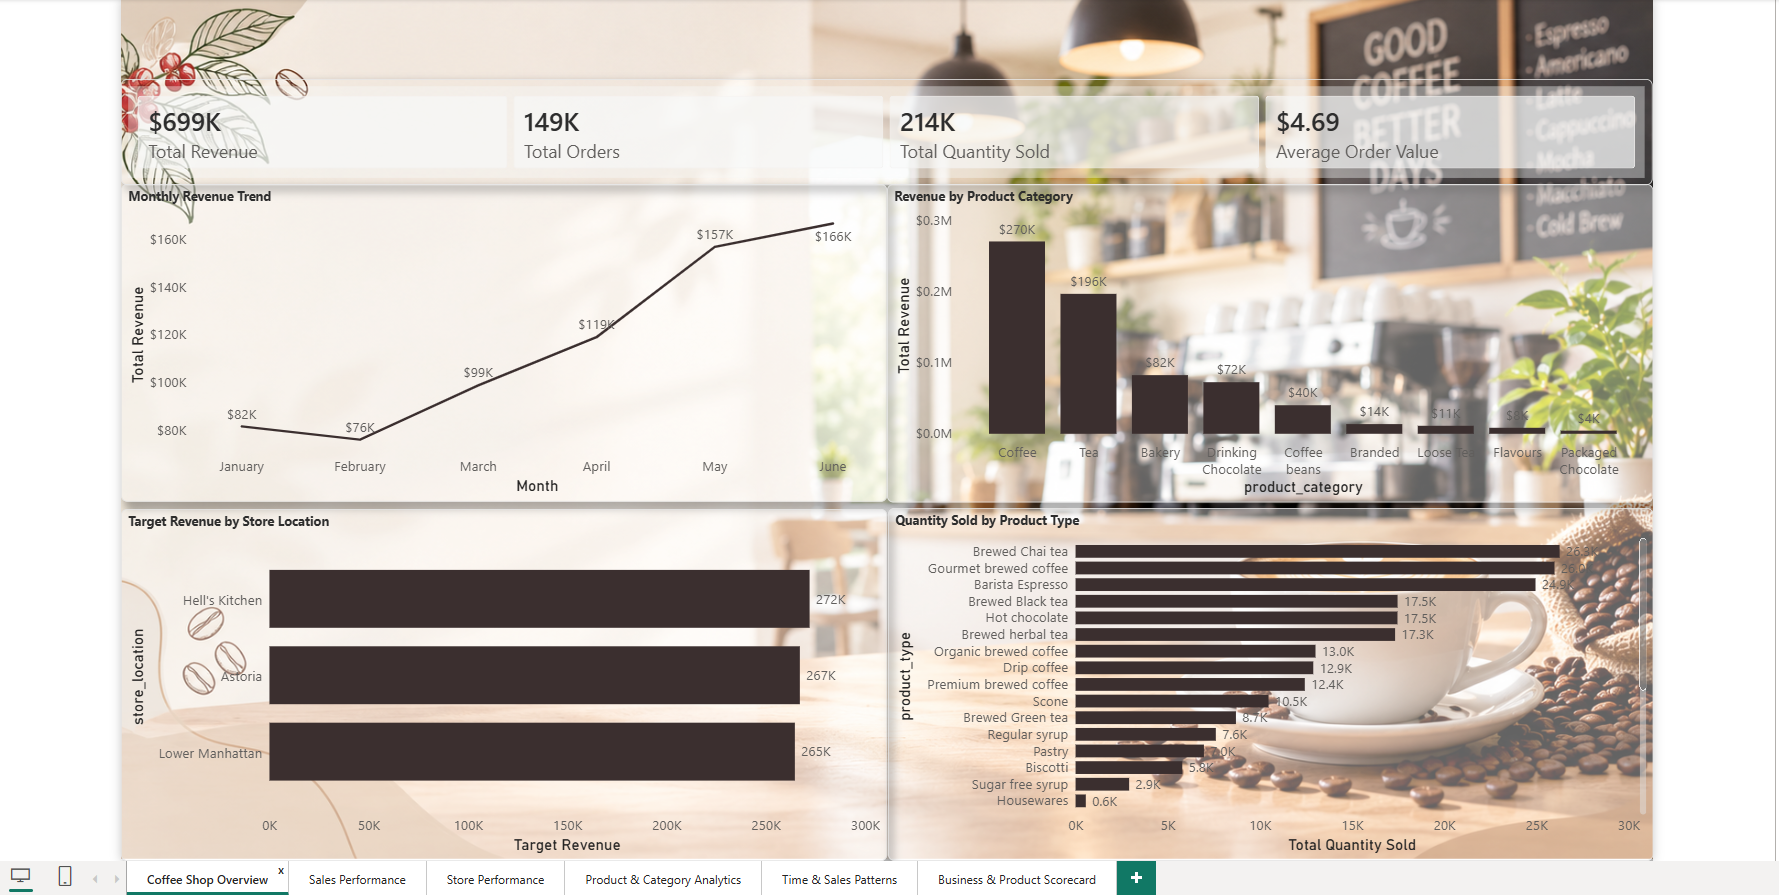

The dashboard page shown, as its layout file describes it:
{"tool":"powerbi","page":{"name":"Coffee Shop Overview","canvas":[1920,1080],"ordinal":0},"visuals":[{"type":"cardVisual","fields":{"Data":["Coffee Shop Sales.Total Revenue","Coffee Shop Sales.Total Orders","Coffee Shop Sales.Total Quantity Sold","Coffee Shop Sales.Average Order Value"]},"box":[0,99.8,1919.3,133],"z":0},{"type":"lineChart","title":"Monthly Revenue Trend","fields":{"Category":["Coffee Shop Sales.transaction_date.Variation.Date Hierarchy.Month"],"Y":["Coffee Shop Sales.Total Revenue"]},"box":[0,232.4,960.4,397.6],"z":1000},{"type":"clusteredColumnChart","title":"Revenue by Product Category","fields":{"Category":["Coffee Shop Sales.product_category"],"Y":["Coffee Shop Sales.Total Revenue"]},"box":[959.1,232.4,960.4,399],"z":2000},{"type":"clusteredBarChart","title":"Target Revenue by Store Location","fields":{"Category":["Coffee Shop Sales.store_location"],"Y":["Coffee Shop Sales.Target Revenue"]},"box":[0,639.4,960.4,440.6],"z":3000},{"type":"clusteredBarChart","title":"Quantity Sold by Product Type","fields":{"Category":["Coffee Shop Sales.product_type"],"Y":["Coffee Shop Sales.Total Quantity Sold"]},"box":[960.4,638.1,959.1,441.9],"z":4000}]}

Visuals, with their boxes on the page's 1920x1080 design canvas (x1, y1, x2, y2). These are canvas units, not pixel positions in the 1779x895 screenshot, which may show the page scaled, cropped or inside an application window:
cardVisual - Coffee Shop Sales.Total Revenue x Coffee Shop Sales.Total Orders: BBox(0, 100, 1919, 233)
"Monthly Revenue Trend" lineChart: BBox(0, 232, 960, 630)
"Revenue by Product Category" clusteredColumnChart: BBox(959, 232, 1920, 631)
"Target Revenue by Store Location" clusteredBarChart: BBox(0, 639, 960, 1080)
"Quantity Sold by Product Type" clusteredBarChart: BBox(960, 638, 1920, 1080)
